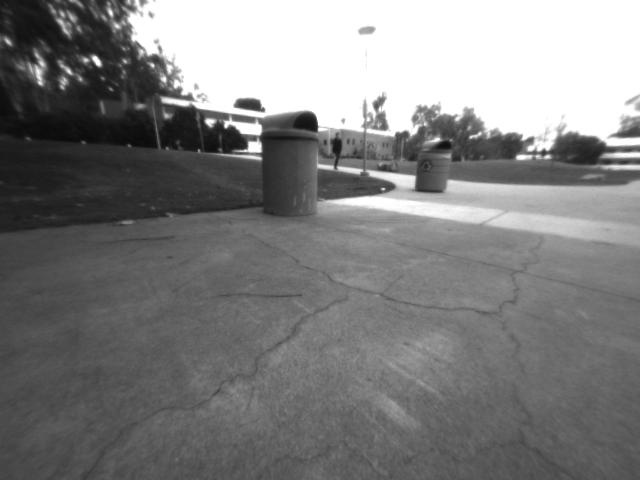trashcan: (252, 104, 327, 226)
